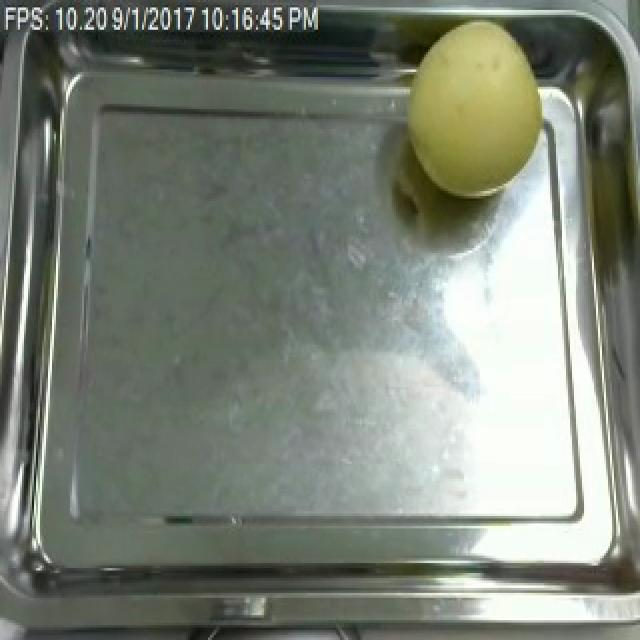Fruit: (398, 12, 554, 206)
